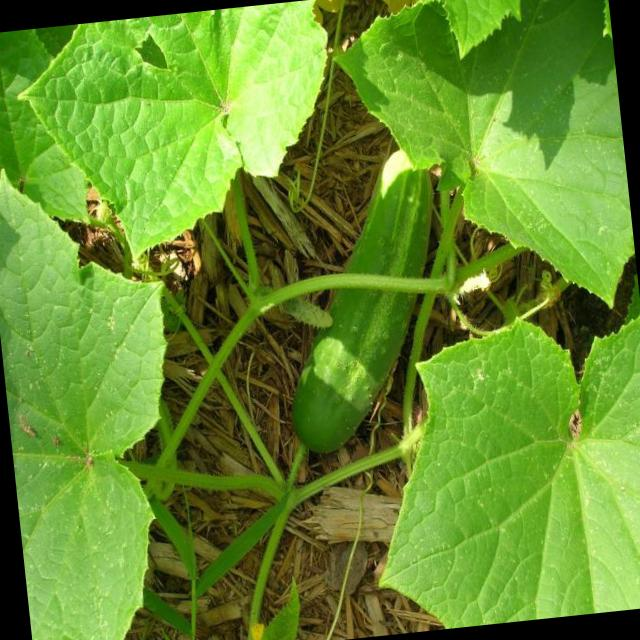Cucumber: (266, 157, 461, 456)
